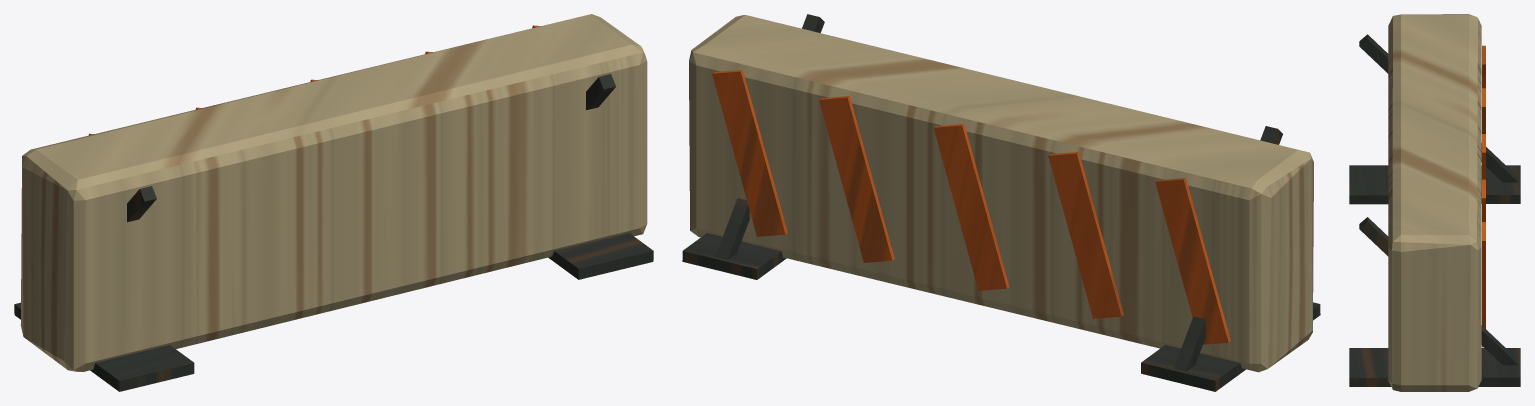
File: convoy-barrier-lod.obj
3 views of the same model, side by side, from view 1: azimuth 30°, elevation 25°; view 2: azimuth 150°, elevation 25°; view 3: azimuth 270°, elevation 25° (orthographic). The views are drawn at different scales.
Parts seen in each view (by area): view 1: convoy-barrier.001; view 2: convoy-barrier.001; view 3: convoy-barrier.001.
Boxes of the visible parts, <box> form: convoy-barrier.001: <box>14,14,653,391</box>; convoy-barrier.001: <box>682,14,1320,391</box>; convoy-barrier.001: <box>1349,14,1520,391</box>.
Bounding box in the file's own units: 3.8 × 1.2 × 1.19.
